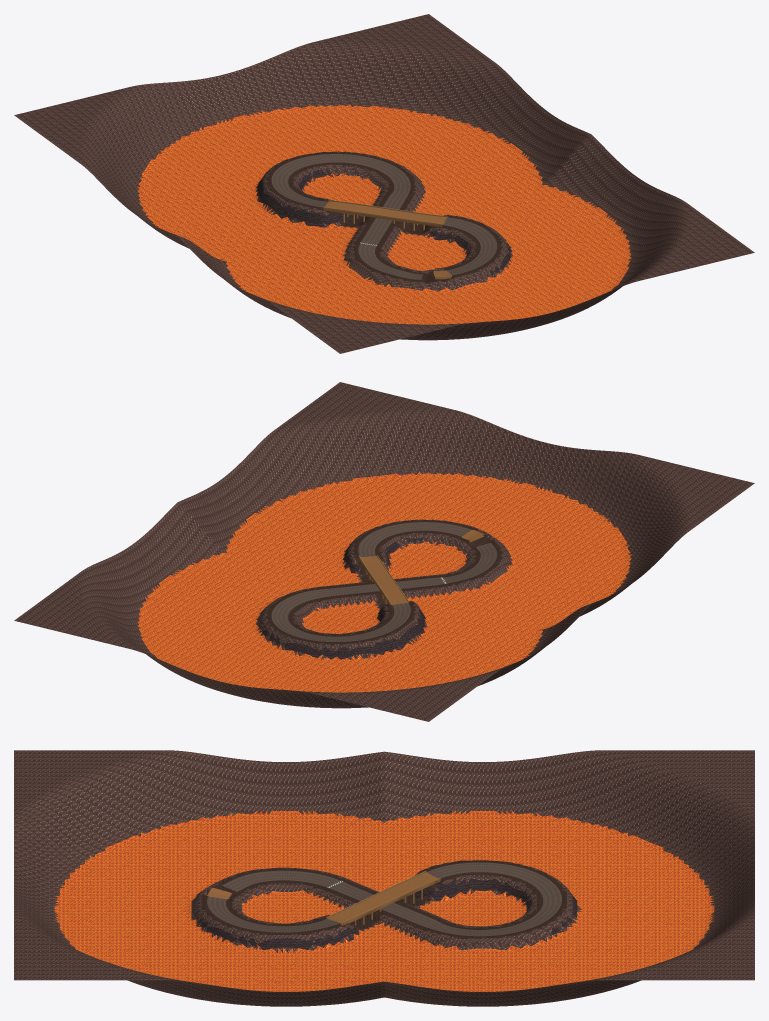
3 views of the same model, one above another, from view 1: azimuth 30°, elevation 25°; view 2: azimuth 150°, elevation 25°; view 3: azimuth 270°, elevation 25° (orthographic). The views are drawn at different scales.
Visible parts, largest first — view 1: Land, Road 04 deck, Road 02 road, Road 05 road, Road 03 road, Road 01 road, Road 08 road; view 2: Land, Road 05 road, Road 02 road, Road 01 road, Road 03 road, Road 04 deck, Road 08 road; view 3: Land, Road 03 road, Road 04 deck, Road 05 road, Road 08 road, Road 02 road, Road 01 road.
Part boxes in pixels (x1,y1,x2,y2): Land: (14,14,754,353); Road 04 deck: (323,200,448,227); Road 02 road: (298,153,412,187); Road 05 road: (442,216,499,276); Road 03 road: (269,158,328,208); Road 01 road: (358,186,412,245); Road 08 road: (356,243,422,280); Land: (14,382,754,721); Road 05 road: (356,521,473,557); Road 02 road: (269,591,321,641); Road 01 road: (307,576,446,599); Road 03 road: (314,602,412,642); Road 04 deck: (359,555,409,605); Road 08 road: (441,542,499,584); Land: (14,750,754,1006); Road 03 road: (426,861,562,897); Road 04 deck: (326,871,440,925); Road 05 road: (205,896,341,933); Road 08 road: (220,869,343,892); Road 02 road: (442,894,563,936); Road 01 road: (327,880,452,932).
Size of the model in its own units: 430 by 41 by 586.
Materials: 8 (8 with a texture image).
